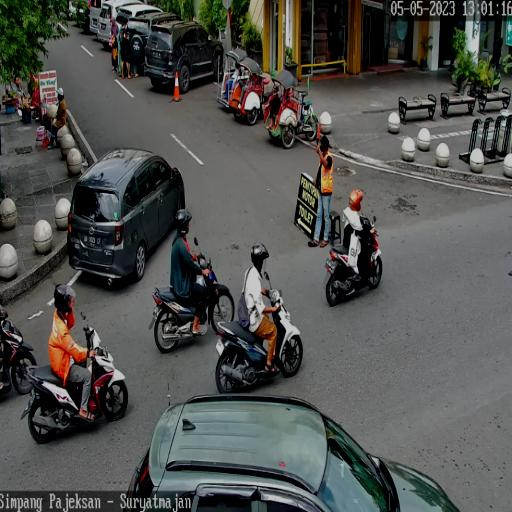mobil: (67, 147, 186, 287), (146, 20, 222, 96)
motor: (24, 323, 126, 441), (215, 272, 302, 394), (149, 238, 235, 353), (326, 216, 383, 309)
